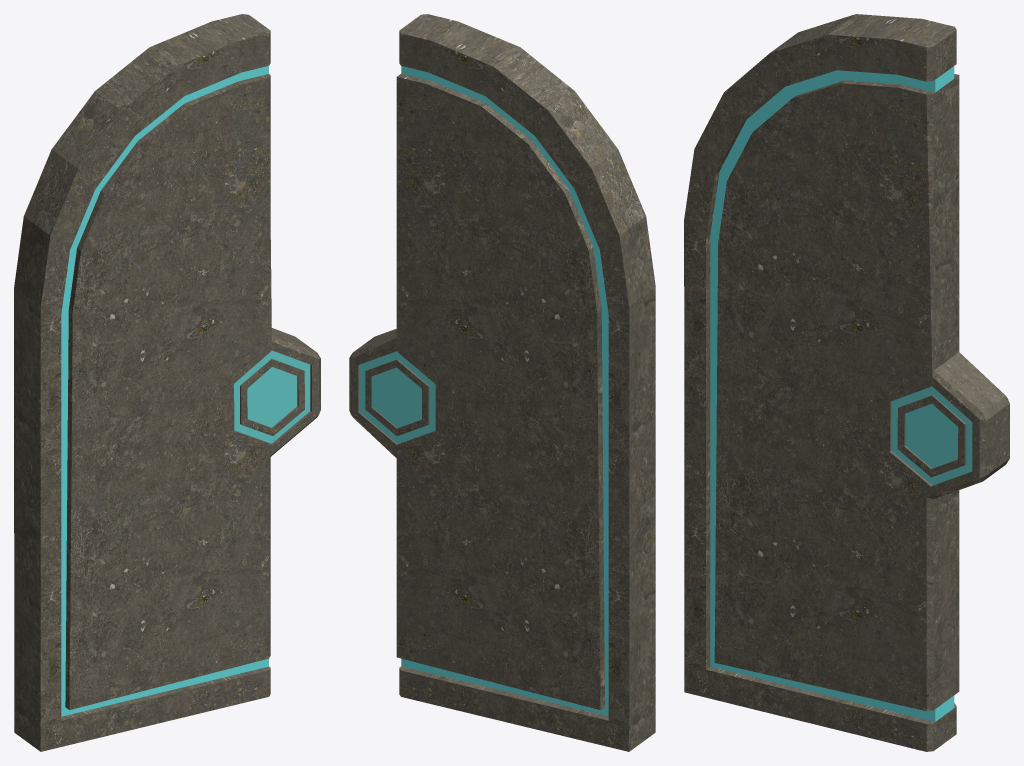
The model's file is Ruins door left.fbx.
3 views of the same model, side by side, from view 1: azimuth 30°, elevation 25°; view 2: azimuth 150°, elevation 25°; view 3: azimuth 330°, elevation 25° (orthographic). The views are drawn at different scales.
Visible parts, largest first — view 1: 扉本体, 光源１, 光源３; view 2: 扉本体, 光源１, 光源３; view 3: 扉本体, 光源１, 光源３.
Boxes of the visible parts, box(x1,y1,x2,y2) form: 扉本体: box(14, 14, 320, 751); 光源１: box(61, 66, 269, 716); 光源３: box(234, 350, 310, 443); 扉本体: box(349, 14, 655, 751); 光源１: box(401, 66, 608, 715); 光源３: box(359, 351, 435, 443); 扉本体: box(684, 14, 1009, 751); 光源１: box(710, 66, 954, 721); 光源３: box(891, 386, 972, 485).
Size of the model in its own units: 24.52 by 55.01 by 4.01.
